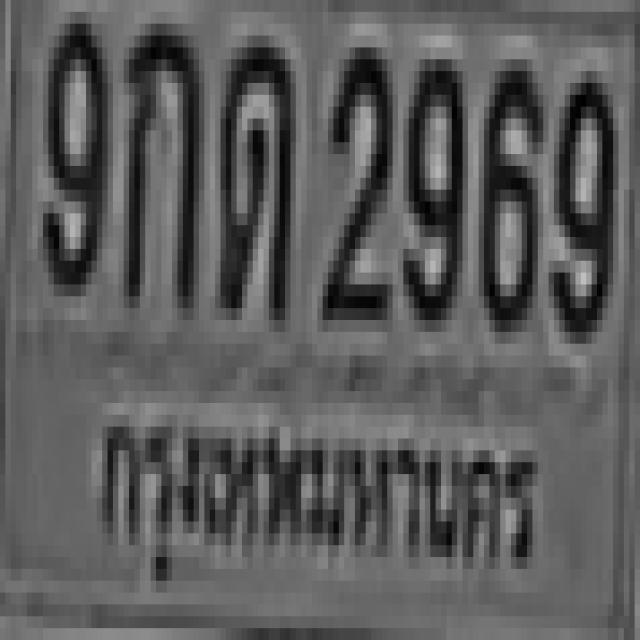10GorGai: (118, 12, 199, 296)
2: (320, 36, 385, 308)
29DorDek: (215, 24, 291, 308)
6: (478, 47, 538, 320)
9: (549, 59, 613, 332), (38, 6, 102, 278), (401, 47, 460, 320)
Bangkok: (91, 388, 545, 616)
